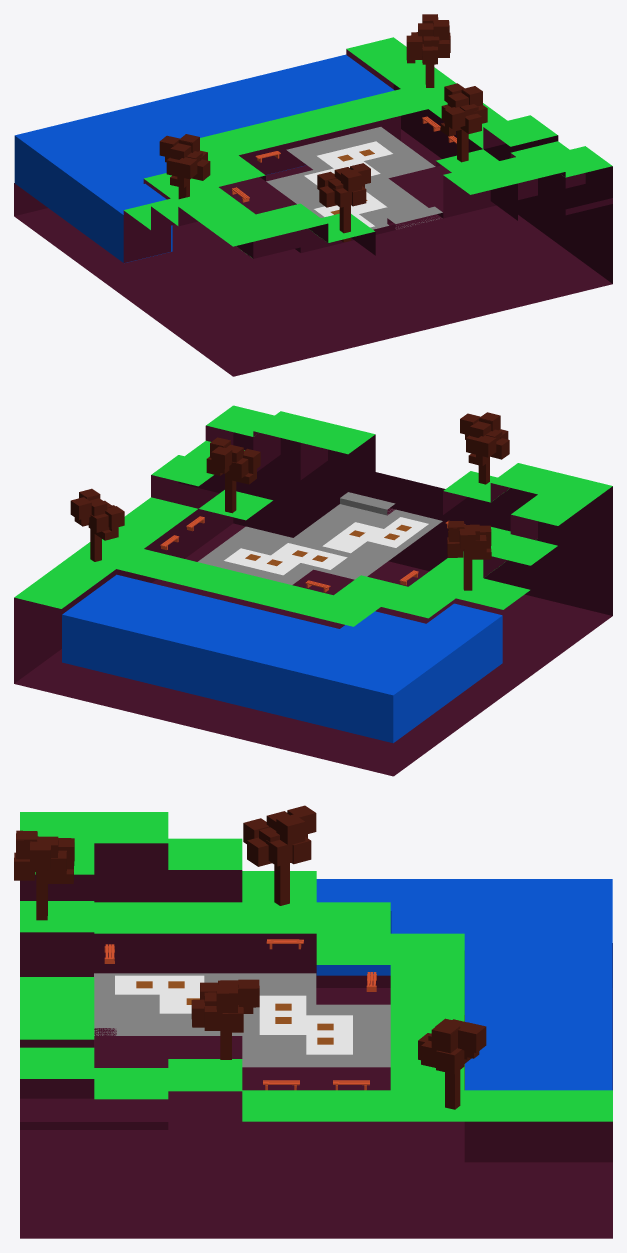
File: park.gltf
3 renders of one model, top to bottom at view 1: azimuth 30°, elevation 25°; view 2: azimuth 150°, elevation 25°; view 3: azimuth 270°, elevation 25°, orthographic. The views are drawn at different scales.
Parts seen in each view (by area): view 1: Cube; view 2: Cube; view 3: Cube.
Part boxes in pixels (x1,y1,x2,y2): Cube: [14, 14, 612, 376]; Cube: [14, 405, 612, 776]; Cube: [14, 805, 612, 1238].
Bounding box in the file's own units: 231 × 99.64 × 233.
